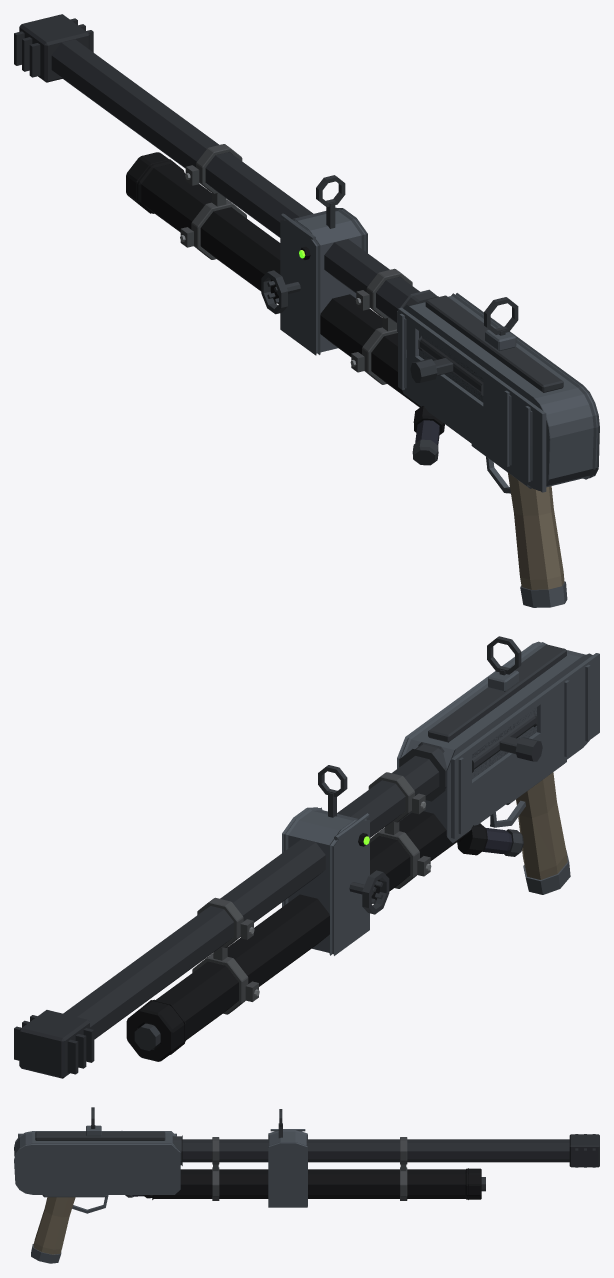
The model's file is sightline_b.glb.
3 views of the same model, one above another, from view 1: azimuth 30°, elevation 25°; view 2: azimuth 150°, elevation 25°; view 3: azimuth 270°, elevation 25° (orthographic). The views are drawn at different scales.
Parts seen in each view (by area): view 1: Body, Handle; view 2: Body, Handle; view 3: Body.
Part boxes in pixels (x1,y1,x2,y2): Body: (14, 14, 599, 607); Handle: (410, 336, 483, 395); Body: (14, 636, 599, 1078); Handle: (472, 712, 542, 772); Body: (14, 1107, 599, 1263).
Size of the model in its own units: 0.079 by 0.2323 by 0.8115.
